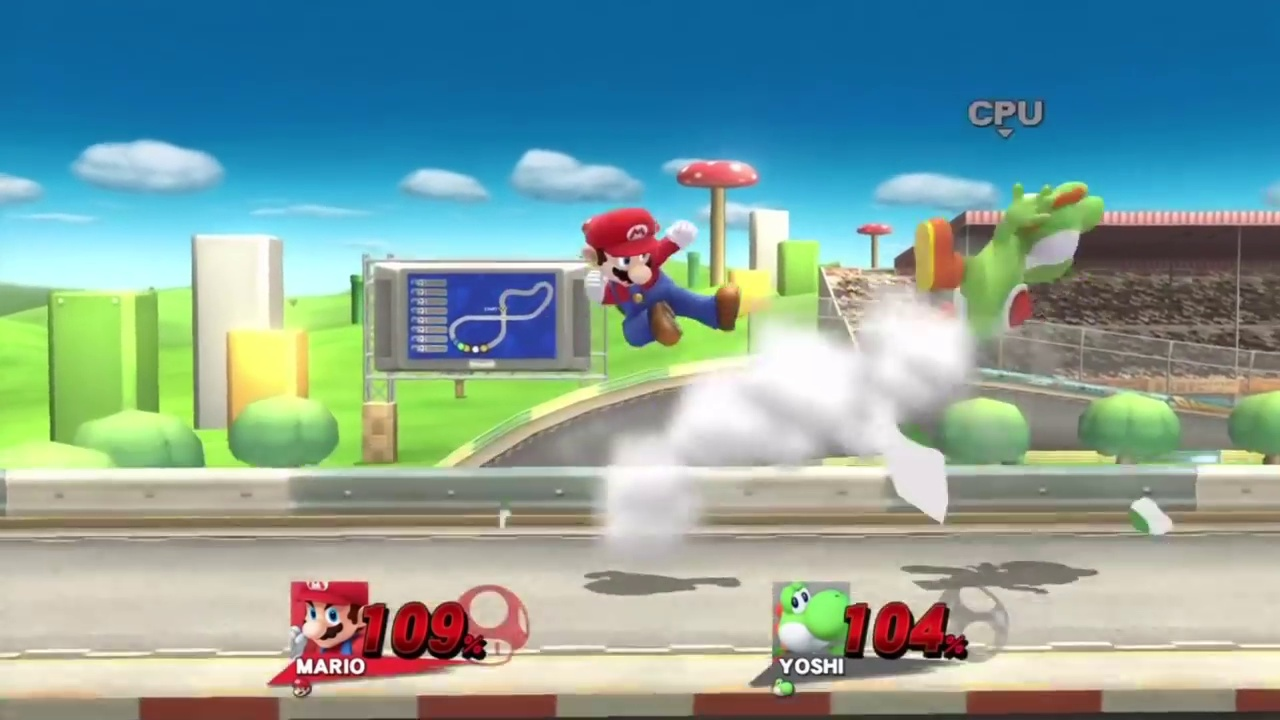Mario: (582, 212, 738, 350)
